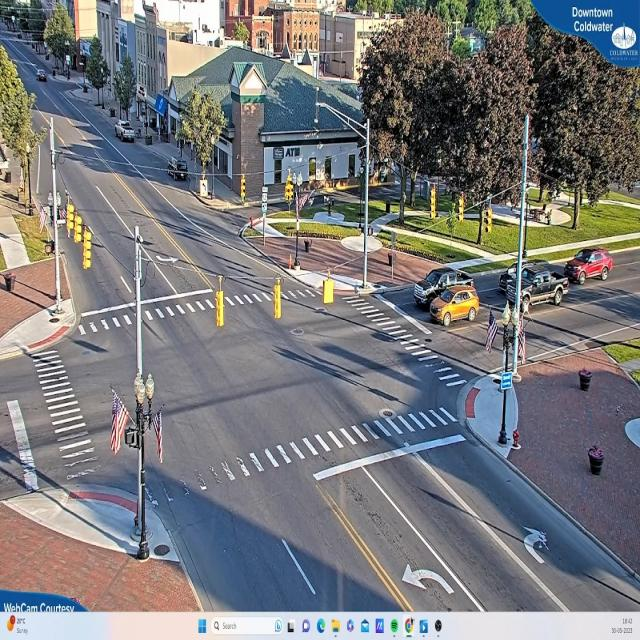car: (506, 267, 566, 311), (429, 288, 484, 327), (412, 266, 456, 310), (568, 247, 614, 284), (495, 260, 526, 292), (115, 121, 136, 143)
